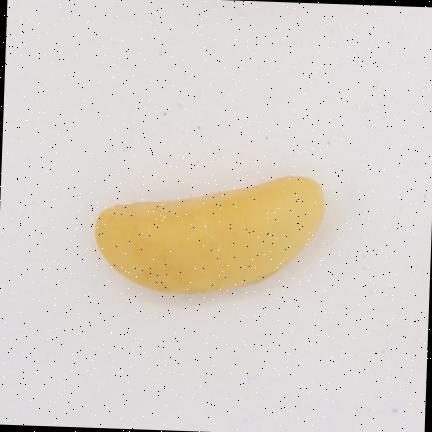parchment: (97, 177, 324, 293)
